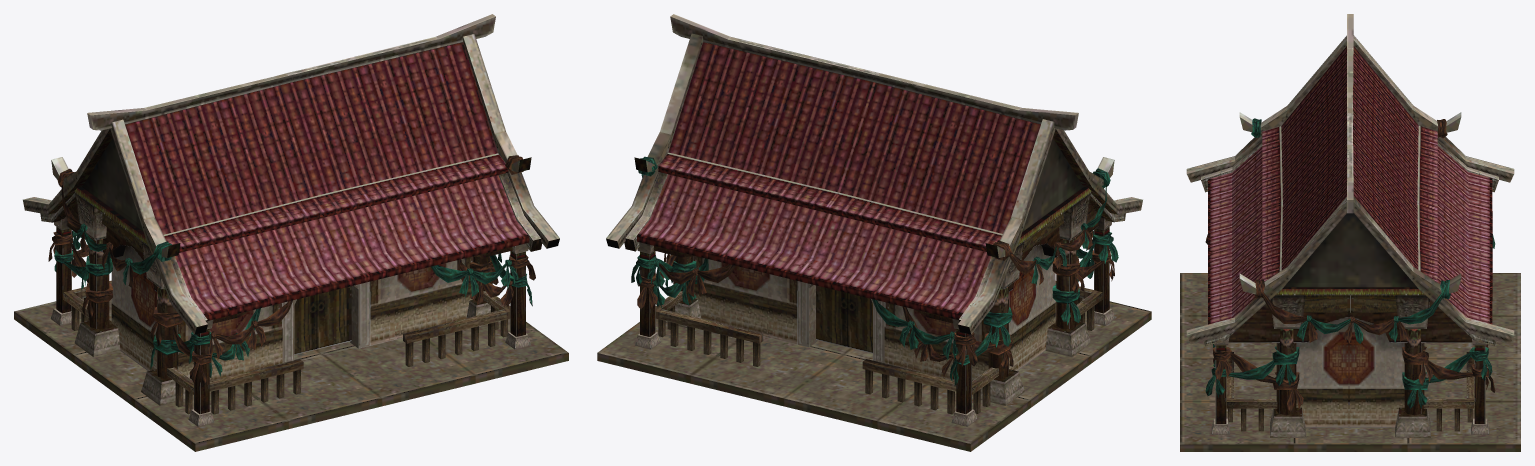
File: a1-rms-001.fbx
3 views of the same model, side by side, from view 1: azimuth 30°, elevation 25°; view 2: azimuth 150°, elevation 25°; view 3: azimuth 270°, elevation 25° (orthographic). The views are drawn at different scales.
Parts seen in each view (by area): view 1: Object01; view 2: Object01; view 3: Object01.
Boxes of the visible parts, x1,y1,x2,y2 form: Object01: (14, 14, 568, 451); Object01: (597, 14, 1151, 451); Object01: (1180, 14, 1520, 451).
Size of the model in its own units: 11.98 by 7.77 by 9.27.
